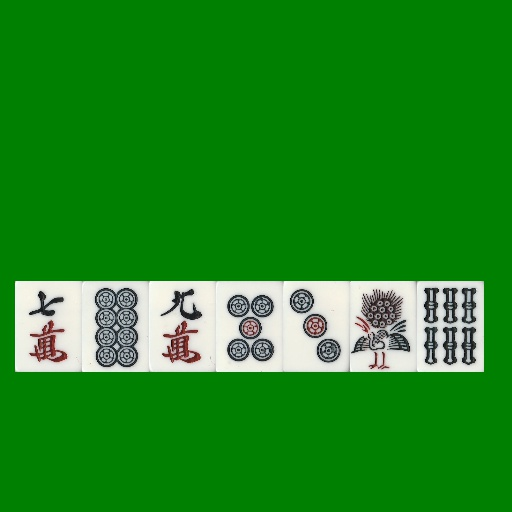1s: (350, 281, 417, 372)
3p: (283, 281, 350, 372)
5p: (216, 281, 283, 372)
6s: (417, 281, 484, 372)
7m: (15, 281, 82, 372)
8p: (82, 281, 149, 372)
9m: (149, 281, 216, 372)
